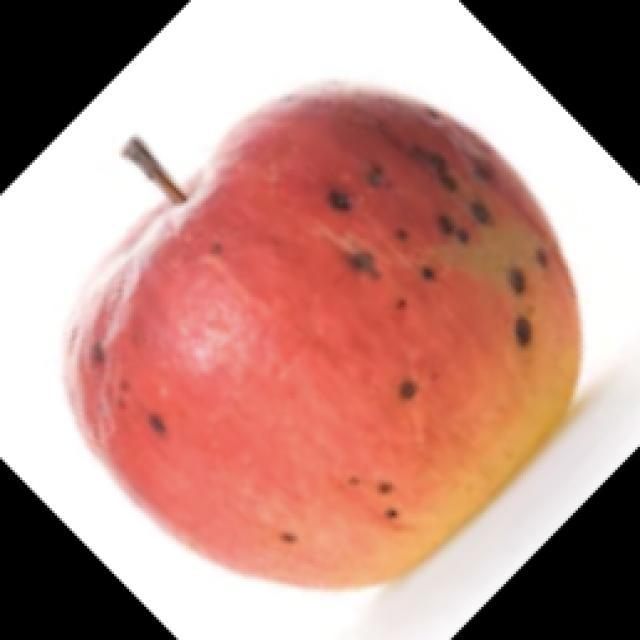Rotten: (68, 75, 572, 615)
